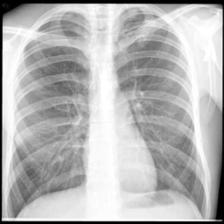tuberculosis: (3, 4, 210, 221)
